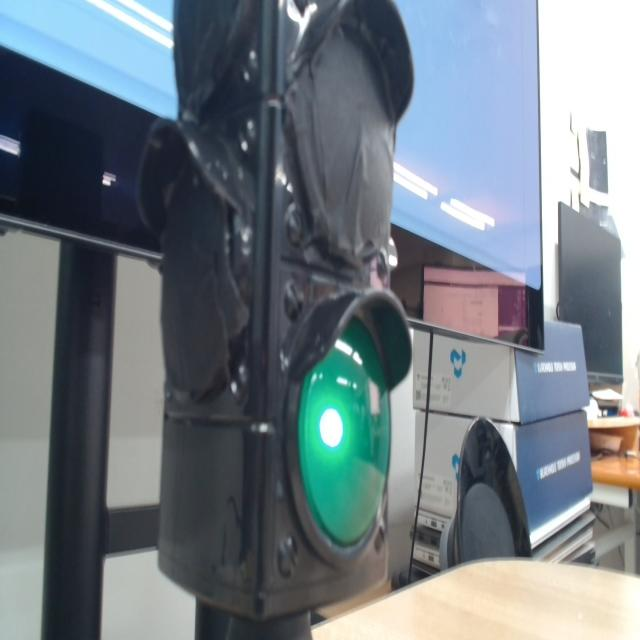green_light: (299, 319, 390, 546), (320, 409, 343, 447)
